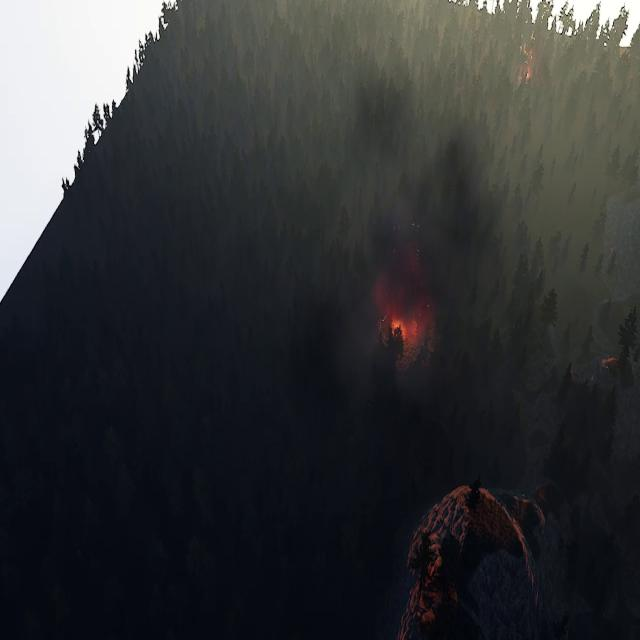fire: (371, 239, 430, 348), (516, 45, 538, 88)
